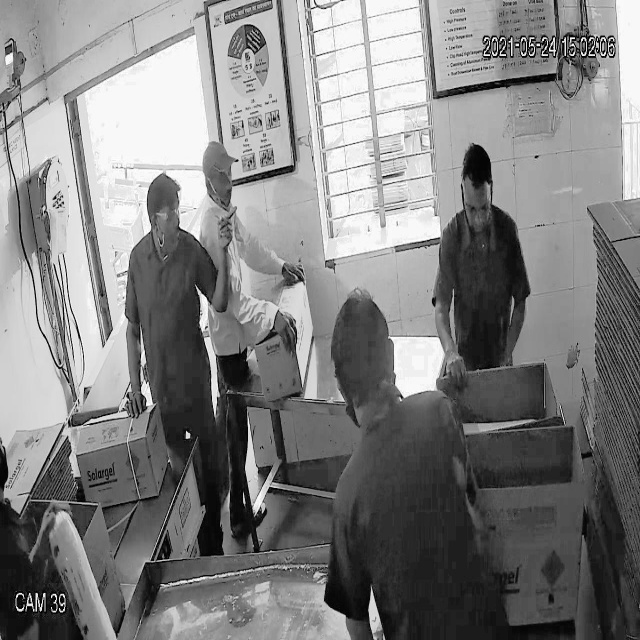Gafas: (458, 189, 495, 226), (144, 200, 187, 230)
Sin_gafas: (202, 162, 236, 190)
